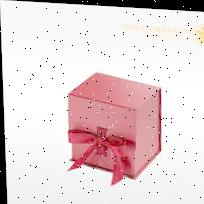cube: (61, 70, 163, 187)
